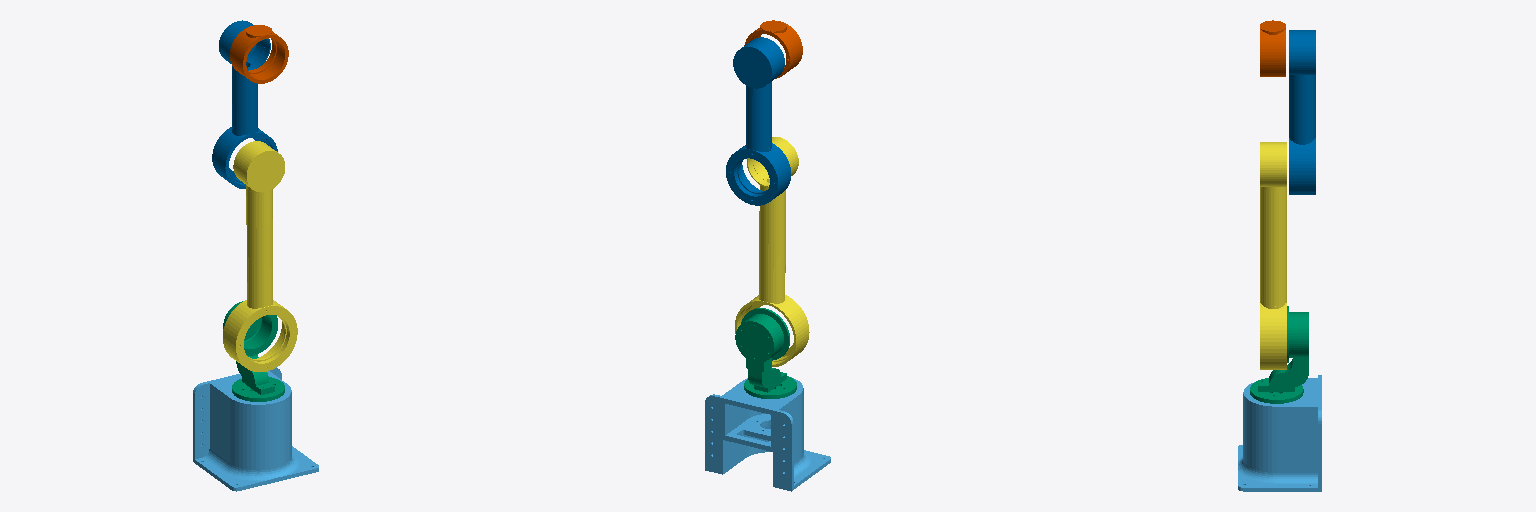
The robot description file, URDF, robot "rover_arm":
<?xml version="1.0"?>
<robot name="rover_arm">
  <link name="world" />
  <link name="base_link">
    <visual>
      <origin xyz="0 0 0.08" rpy="0 0 0"/>
      <geometry>
        <mesh filename="../meshes/base_link.stl" scale="1 1 1"/>
      </geometry>
      <material name="mat_silver"/>
    </visual>
    <collision>
      <origin xyz="0 0 0.1" rpy="0 0 0" />
      <geometry>
        <box size="0.16 0.16 0.17" />
      </geometry>
    </collision>
    <inertial>
      <mass value="100"/>
      <inertia ixx="0.02" ixy="0.0" ixz="0.0" iyy="0.02" iyz="0.0" izz="0.005"/>
    </inertial>
  </link>

  <link name="link1">
    <visual>
      <origin xyz="0 0 -0.1" rpy="0 0 0 " />
      <geometry>
         <mesh filename="../meshes/link_1.stl" scale="1 1 1"/>
      </geometry>
      <material name="mat_silver" />
    </visual>
    <collision>
      <origin xyz="0 0.023 0.105" rpy="0 0 0" />
      <geometry>
       <box size="0.1 0.05 0.155" />
      </geometry>
    </collision>
    <inertial>
      <mass value="1"/>
      <inertia ixx="0.0004" ixy="0.0" ixz="0.0" iyy="0.0006" iyz="0.0" izz="0.00004"/>
    </inertial>
  </link>

  <link name="link2">
    <visual>
      <origin xyz="0 0 -0.22" rpy="0 0 0" />
      <geometry>
        <mesh filename="../meshes/link_2.stl" scale="1 1 1"/>
     </geometry>
     <material name="mat_silver" />
    </visual>
    <collision>
      <origin xyz="0 -0.03 0.155" rpy="0 0 0" />
      <geometry>
       <box size="0.1 0.04 0.45" />
     </geometry>
    </collision>
    <inertial>
     <mass value="1"/>
     <inertia ixx="0.00004" ixy="0.0" ixz="0.0" iyy="0.0003" iyz="0.0" izz="0.0003"/>
   </inertial>
  </link>
 <link name="link3">
    <visual>
        <origin xyz="0 0 -0.565" rpy="0 0 0" />
        <geometry>
          <mesh filename="../meshes/link_3.stl" scale="1 1 1"/>
       </geometry>
       <material name="mat_silver" />
      </visual>
    <collision>
      <origin xyz="0.01 0.036 0.115" rpy="0 0 0" />
      <geometry>
        <box size="0.12 0.04 0.32" />
      </geometry>
    </collision>
    <inertial>
      <mass value="1"/>
      <inertia ixx="0.000042" ixy="0.0" ixz="0.0" iyy="0.000042" iyz="0.0" izz="0.000042"/>
    </inertial>
  </link>
  <link name="link4">
    <visual>
        <origin xyz="0 0 -0.8" rpy="0 0 0" />
        <geometry>
          <mesh filename="../meshes/link_4.stl" scale="1 1 1"/>
       </geometry>
       <material name="mat_silver" />
      </visual>
    <collision>
      <origin xyz="0.01 -0.022 0" rpy="0 0 0" />
      <geometry>
        <box size="0.1 0.06 0.08" />
      </geometry>
    </collision>
    <inertial>
      <mass value="1"/>
      <inertia ixx="0.000042" ixy="0.0" ixz="0.0" iyy="0.000042" iyz="0.0" izz="0.000042"/>
    </inertial>
  </link>
  <link name="link5">
    <visual>
        <origin xyz="0 0 -0.85" rpy="0 0 0" />
        <geometry>
          <mesh filename="../meshes/link_5.stl" scale="1 1 1"/>
       </geometry>
       <material name="mat_silver" />
      </visual>
    <collision>
      <origin xyz="0.01 -0.02 0.1" rpy="0 0 0" />
      <geometry>
        <box size="0.2 0.06 0.12" />
      </geometry>
    </collision>
    <inertial>
      <mass value="1"/>
      <inertia ixx="0.000042" ixy="0.0" ixz="0.0" iyy="0.000042" iyz="0.0" izz="0.000042"/>
    </inertial>
  </link>

  <joint name="base_joint" type="fixed">
    <parent link="world" />
    <child link="base_link" />
    <origin xyz="0 0 0" rpy="0 0 0" />
    <dynamics damping="1.0"/>
  </joint>


  <joint name="joint1" type="continuous">
    <parent link="base_link" />
    <child link="link1" />
    <origin xyz="0 0 0.18" rpy="0 0 0" />
    <axis xyz="0 0 1" />
    <limit velocity="100" effort="100"/>
    <dynamics damping="1.0"/>
  </joint>

  <joint name="joint2" type="revolute">
    <parent link="link1" />
    <child link="link2" />
    <origin xyz="0 0 0.12" rpy="0 0 0" />
    <axis xyz="0 1 0" />
    <limit lower="-1.5707" upper="1.5707" velocity="100" effort="100" />
    <dynamics damping="1.0"/>
  </joint>

  <joint name="joint3" type="revolute">
      <parent link="link2" />
      <child link="link3" />
      <origin xyz="0 0 0.345" rpy="0 0 0" />
      <axis xyz="0 1 0" />
      <limit lower="-1.5707" upper="1.5707" velocity="100" effort="100" />
      <dynamics damping="1.0"/>
  </joint>
  <joint name="joint4" type="revolute">
    <parent link="link3" />
    <child link="link4" />
    <origin xyz="0 0 0.24" rpy="0 0 0" />
    <axis xyz="0 1 0" />
    <limit lower="-1.5707" upper="1.5707" velocity="100" effort="100" />
    <dynamics damping="1.0"/>
</joint>
<joint name="joint5" type="revolute">
    <parent link="link4" />
    <child link="link5" />
    <origin xyz="0 0 0.05" rpy="0 0 0" />
    <axis xyz="0 0 1" />
    <limit lower="-1.5707" upper="1.5707" velocity="100" effort="100" />
</joint>
</robot>

--- Facts derived from the render (not from the file) ---
The picture shows the robot from 3 angles, left to right: view 1: azimuth 30°, elevation 25°; view 2: azimuth 150°, elevation 25°; view 3: azimuth 270°, elevation 25°; orthographic projection.
Model rover_arm with 7 links and 6 joints (4 revolute, 1 continuous, 1 fixed), rooted at world, posed all joints at 0.
Visible links, largest first — view 1: base_link, link2, link3, link1, link4; view 2: base_link, link3, link2, link1, link4; view 3: base_link, link2, link3, link1, link4.
Boxes of the visible links, box(x1,y1,x2,y2) form: base_link: box(193, 367, 318, 491); link2: box(223, 141, 297, 371); link3: box(212, 20, 277, 188); link1: box(223, 301, 284, 401); link4: box(230, 25, 288, 83); base_link: box(705, 377, 830, 491); link3: box(726, 37, 790, 205); link2: box(735, 137, 809, 366); link1: box(735, 308, 796, 398); link4: box(744, 20, 802, 78); base_link: box(1238, 375, 1321, 491); link2: box(1260, 142, 1286, 369); link3: box(1289, 30, 1315, 194); link1: box(1250, 306, 1308, 403); link4: box(1260, 20, 1285, 76).
Bounding box of the posed robot: 0.19 × 0.158 × 0.9155 m (x, y, z).
Meshes: 6 distinct files referenced, 5 mesh visuals loaded (5 binary STL); not drawn: 1 (reference not matched to a file when rendering).